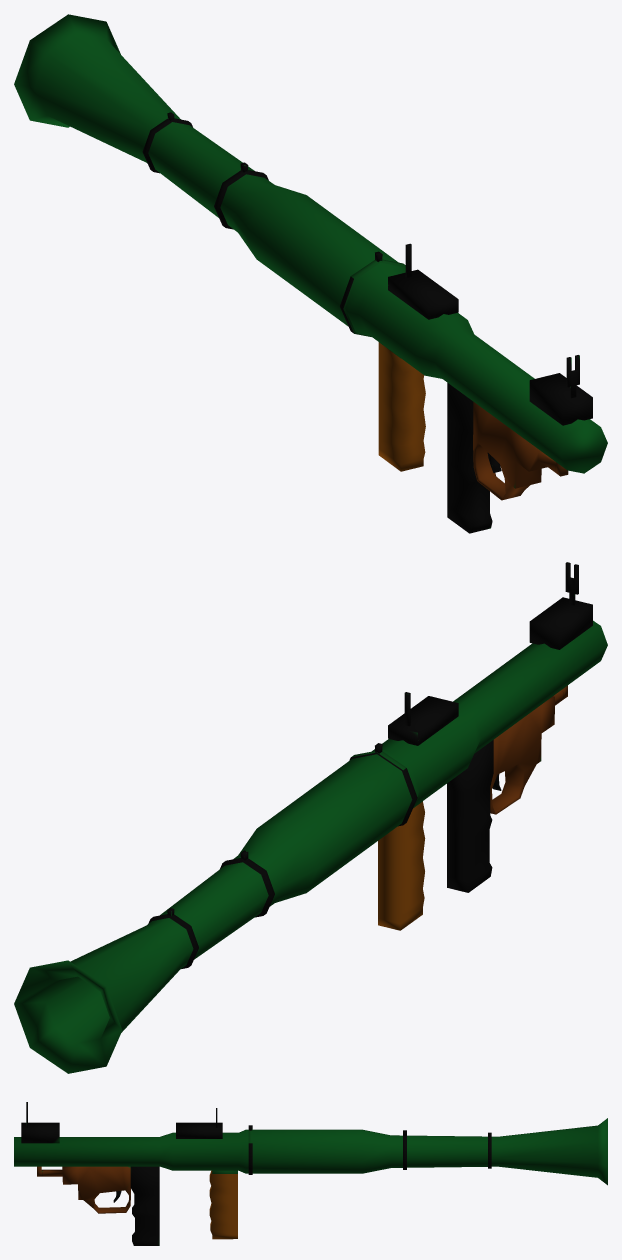
The model's file is rpgBaseglb.glb.
3 renders of one model, top to bottom at view 1: azimuth 30°, elevation 25°; view 2: azimuth 150°, elevation 25°; view 3: azimuth 270°, elevation 25°, orthographic. The views are drawn at different scales.
Visible parts, largest first — view 1: cylinder2; view 2: cylinder2; view 3: cylinder2.
Part boxes in pixels (box(x1,y1,x2,y2)): cylinder2: box(14, 14, 607, 533); cylinder2: box(14, 562, 607, 1073); cylinder2: box(14, 1102, 607, 1245).
Size of the model in its own units: 0.7586 by 1.62 by 6.25.
Materials: 1 (1 with a texture image).
